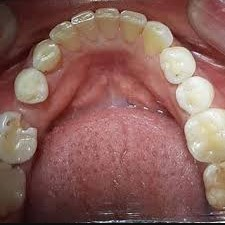UL1BC_healthy: (160, 46, 197, 83)
UL1M_healthy: (185, 111, 225, 158)
UL2BC_healthy: (175, 77, 215, 111)
UL2M_healthy: (204, 165, 225, 205)
ULCI_healthy: (98, 8, 120, 41)
ULC_healthy: (147, 21, 171, 53)
ULLI_healthy: (120, 10, 145, 44)
UR1BC_healthy: (15, 68, 50, 103)
UR1M_healthy: (1, 164, 28, 215)
UR2BC_decay: (1, 111, 38, 163)
URCI_healthy: (72, 10, 100, 42)
URC_healthy: (34, 38, 63, 71)
URLI_healthy: (54, 22, 80, 50)
